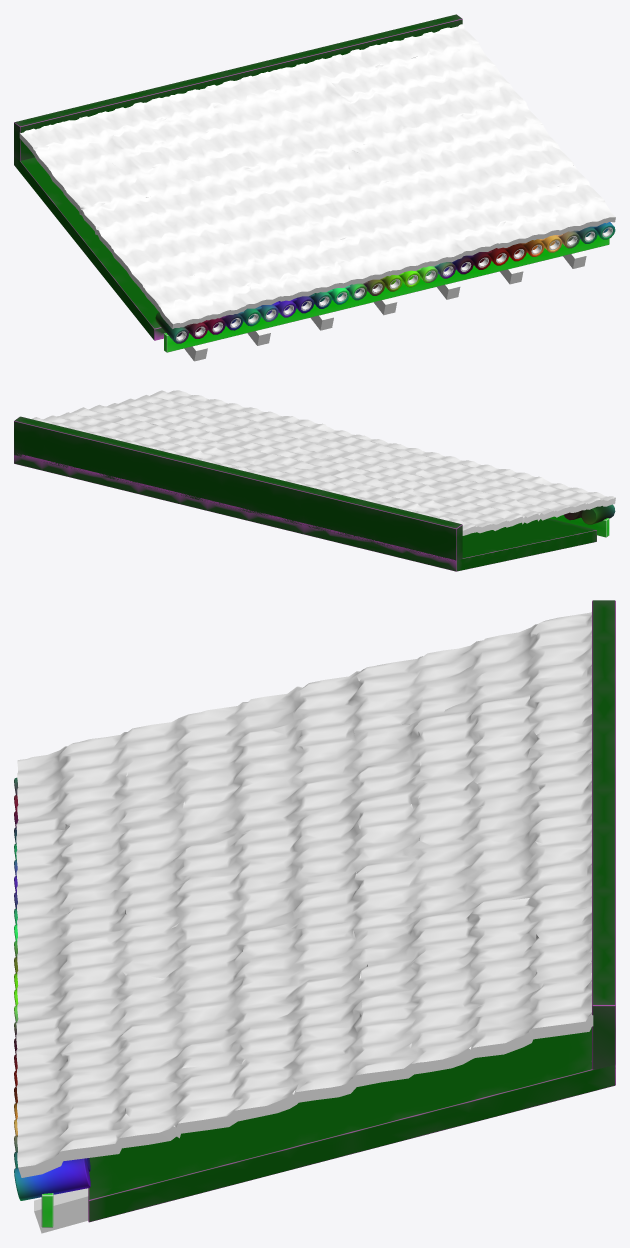
Rendered from overhang_slope_200_01_middle.fbx.
3 renders of one model, top to bottom at view 1: azimuth 30°, elevation 25°; view 2: azimuth 150°, elevation 25°; view 3: azimuth 270°, elevation 25°, orthographic. The views are drawn at different scales.
Parts seen in each view (by area): view 1: overhang_slope_200_01_middle; view 2: overhang_slope_200_01_middle; view 3: overhang_slope_200_01_middle.
Part boxes in pixels (x1,y1,x2,y2): overhang_slope_200_01_middle: [14, 14, 615, 361]; overhang_slope_200_01_middle: [14, 390, 615, 571]; overhang_slope_200_01_middle: [14, 600, 615, 1233].
Size of the model in its own units: 4 by 1.16 by 2.51.
